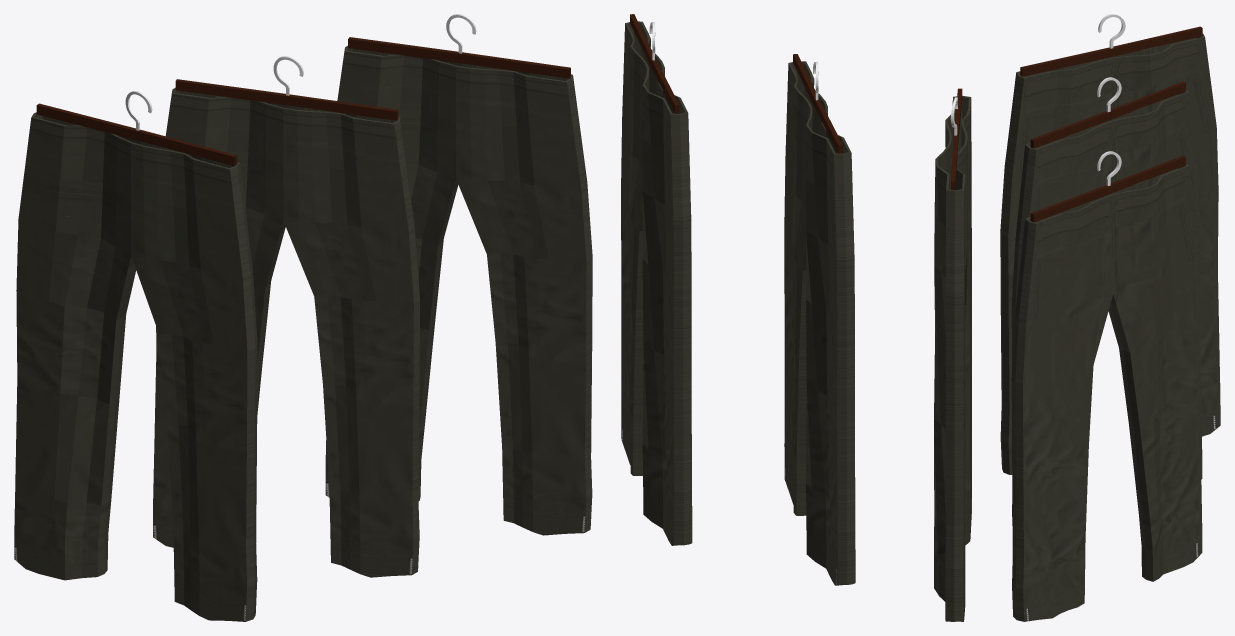
File: chinogreen1.glb
3 renders of one model, left to right at view 1: azimuth 30°, elevation 25°; view 2: azimuth 150°, elevation 25°; view 3: azimuth 270°, elevation 25°, orthographic. The views are drawn at different scales.
Parts seen in each view (by area): view 1: Plane.333; view 2: Plane.333; view 3: Plane.333.
Boxes of the visible parts, box(x1,y1,x2,y2) form: Plane.333: box(14, 14, 592, 621); Plane.333: box(621, 14, 971, 621); Plane.333: box(1000, 14, 1220, 621).
Size of the model in its own units: 0.4598 by 0.4706 by 0.2126.
3 materials, 3 textured.
